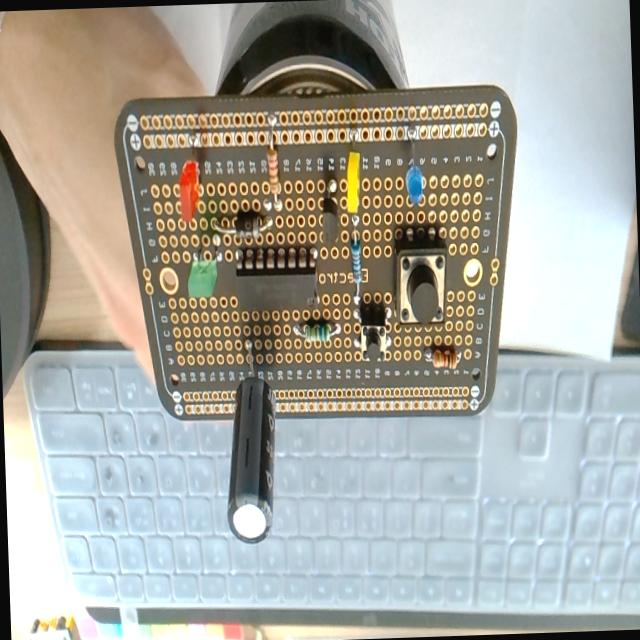Electrolytic capacitor: (212, 349, 288, 548)
IC: (236, 248, 323, 321)
diode: (212, 204, 276, 239)
led: (395, 122, 431, 201), (179, 242, 224, 294), (344, 134, 370, 215), (176, 162, 206, 227)
resistor: (266, 106, 290, 209), (346, 216, 372, 307), (418, 332, 468, 372), (286, 320, 343, 348)
switch: (392, 225, 454, 329), (349, 300, 394, 374)
transistor: (315, 169, 345, 248)
